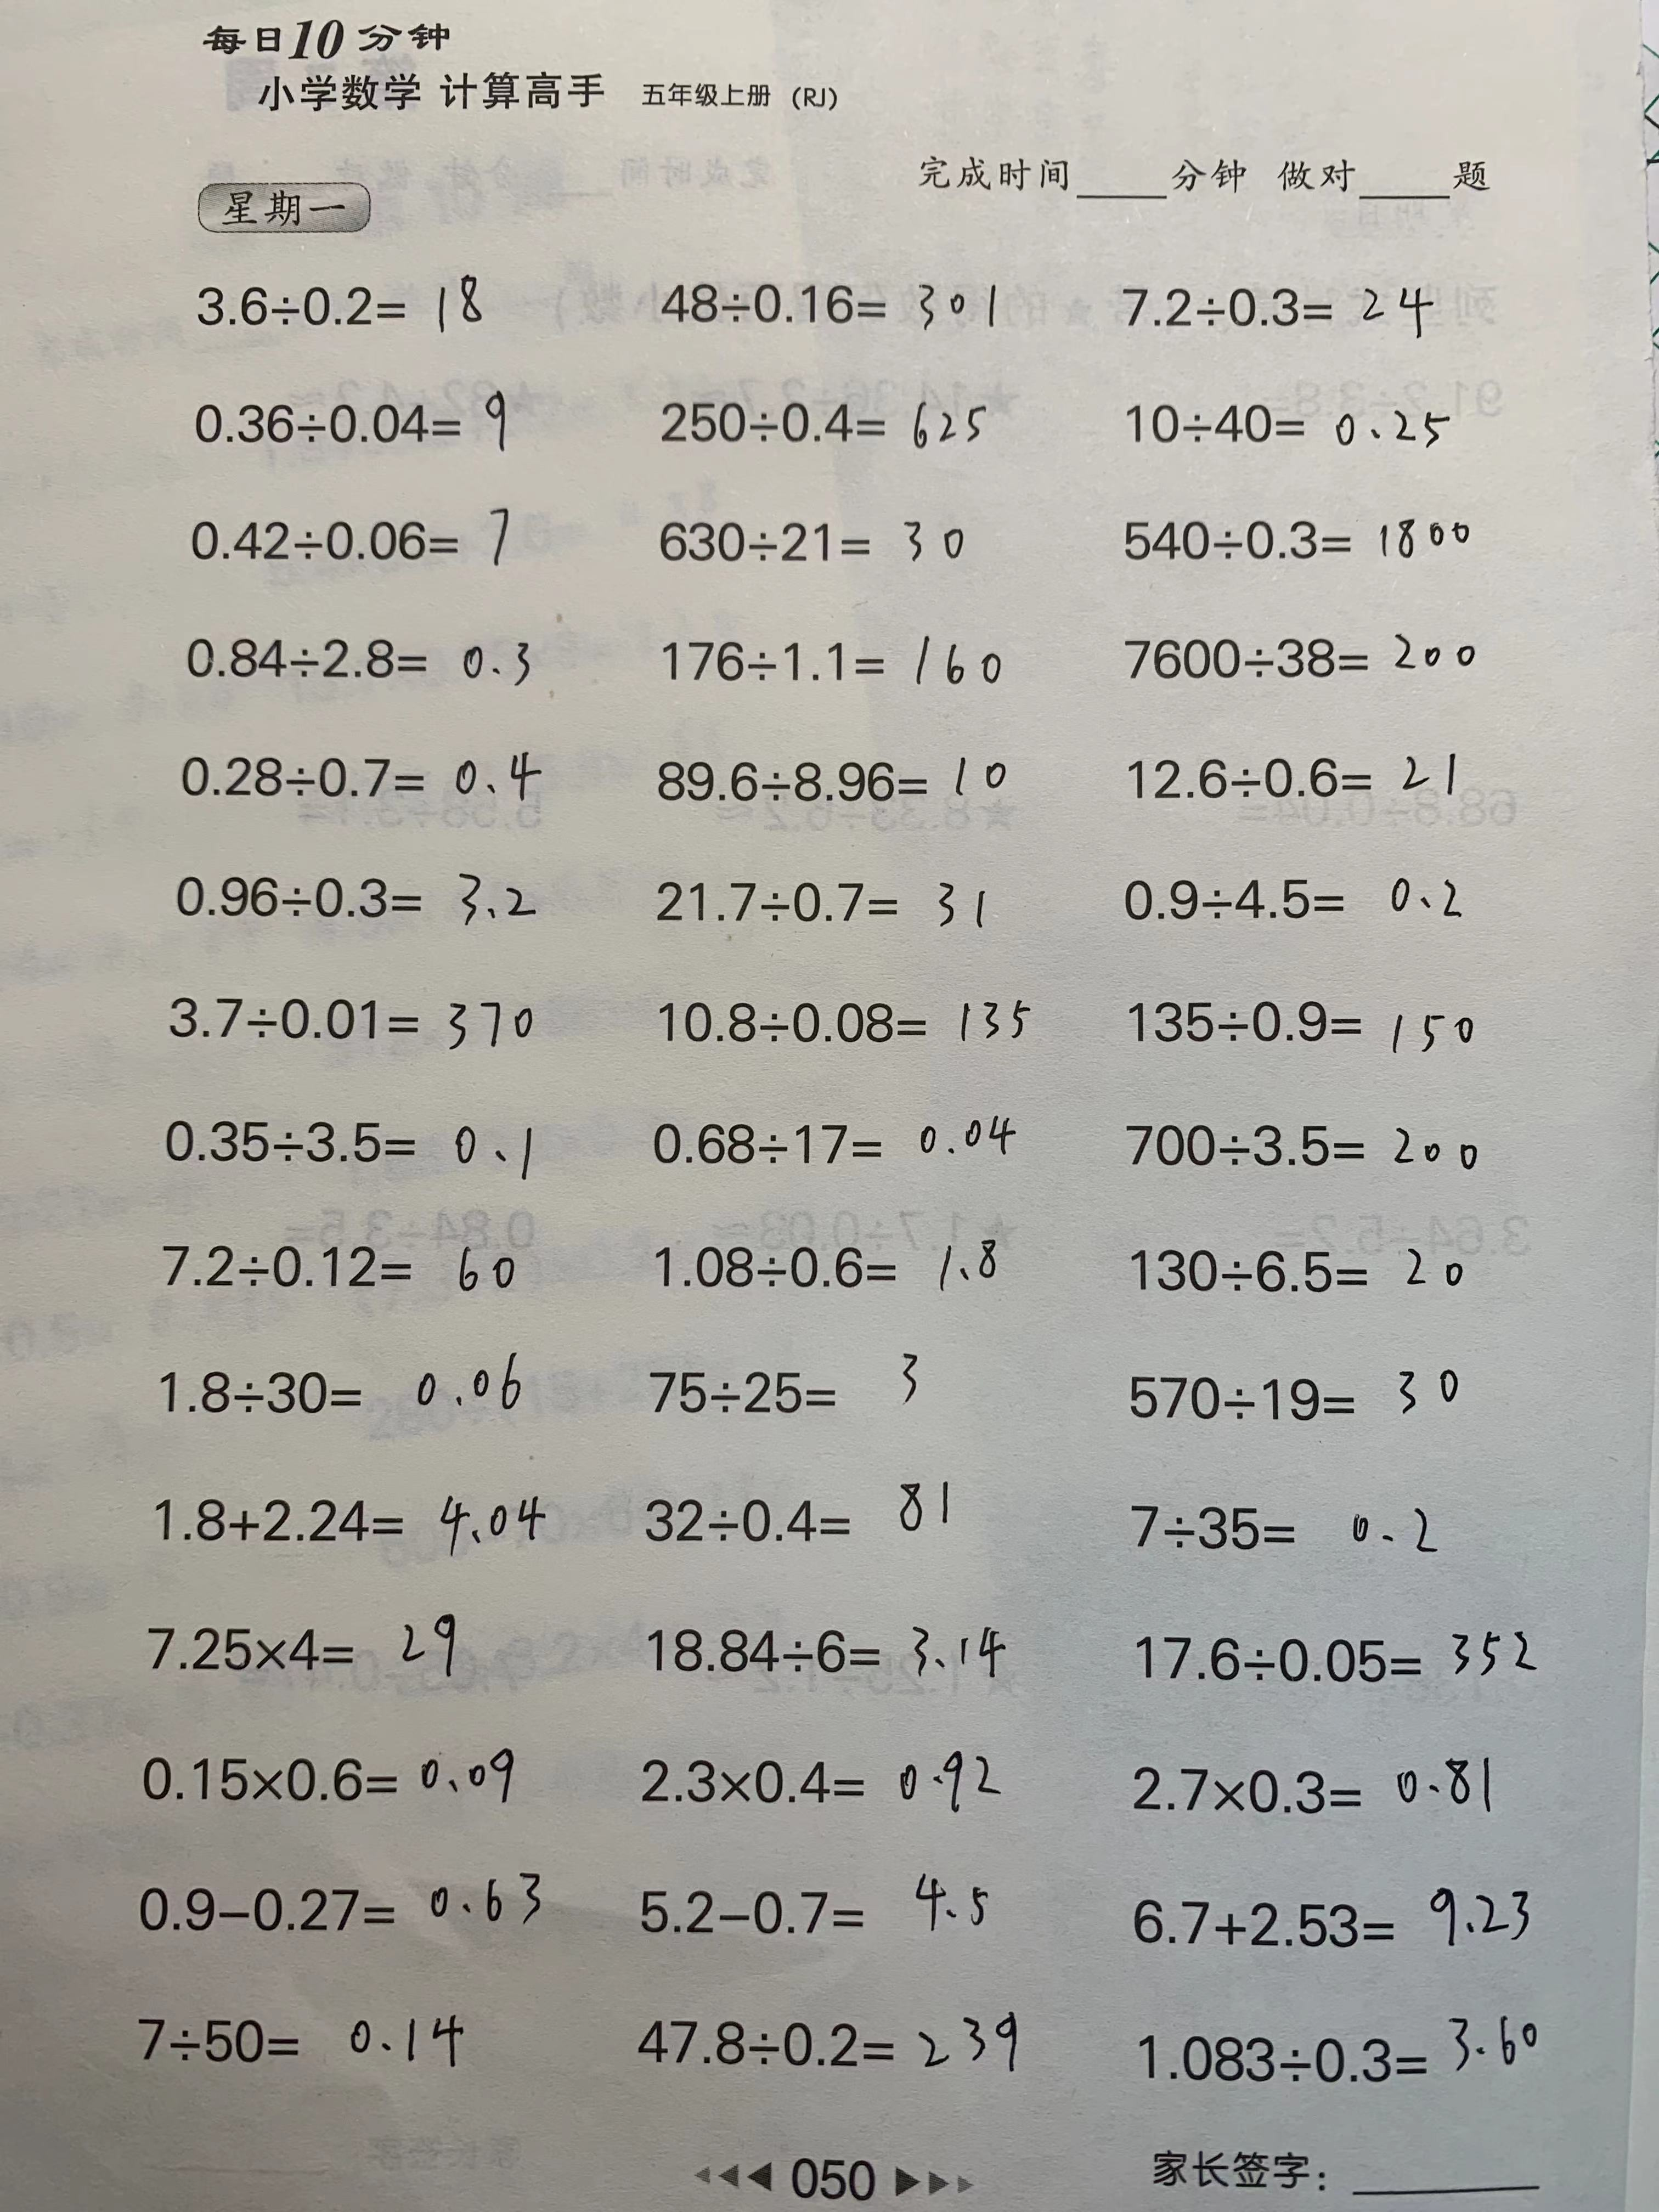equation: (152, 1474, 552, 1573), (146, 1223, 533, 1313), (145, 1345, 533, 1432), (1131, 2013, 1549, 2094), (1122, 1878, 1541, 1958), (1117, 1360, 1469, 1454), (169, 495, 519, 587), (633, 1742, 1012, 1825), (127, 1864, 551, 1939), (1122, 1620, 1546, 1693), (631, 2005, 1028, 2081), (131, 1601, 481, 1686), (179, 376, 514, 465), (164, 740, 542, 819), (132, 1740, 525, 1813), (633, 1331, 938, 1425), (166, 862, 547, 937), (152, 1109, 542, 1183), (1122, 1747, 1499, 1822), (183, 263, 495, 352), (627, 1869, 995, 1944), (174, 622, 542, 697), (119, 2008, 476, 2085), (645, 1230, 1007, 1305), (641, 1618, 1018, 1689), (1114, 988, 1481, 1059), (157, 988, 542, 1055), (1114, 1111, 1488, 1177), (650, 625, 1012, 693), (633, 1477, 960, 1552), (645, 747, 1014, 813), (641, 1109, 1023, 1172), (652, 993, 1042, 1054), (652, 273, 1009, 340), (1112, 625, 1485, 688), (652, 392, 995, 460), (1122, 1238, 1474, 1305), (1114, 867, 1474, 932), (1112, 279, 1443, 348), (650, 871, 995, 937), (1112, 509, 1480, 570), (1117, 747, 1466, 810), (1117, 1496, 1446, 1562), (1114, 395, 1457, 456), (650, 509, 976, 570)
